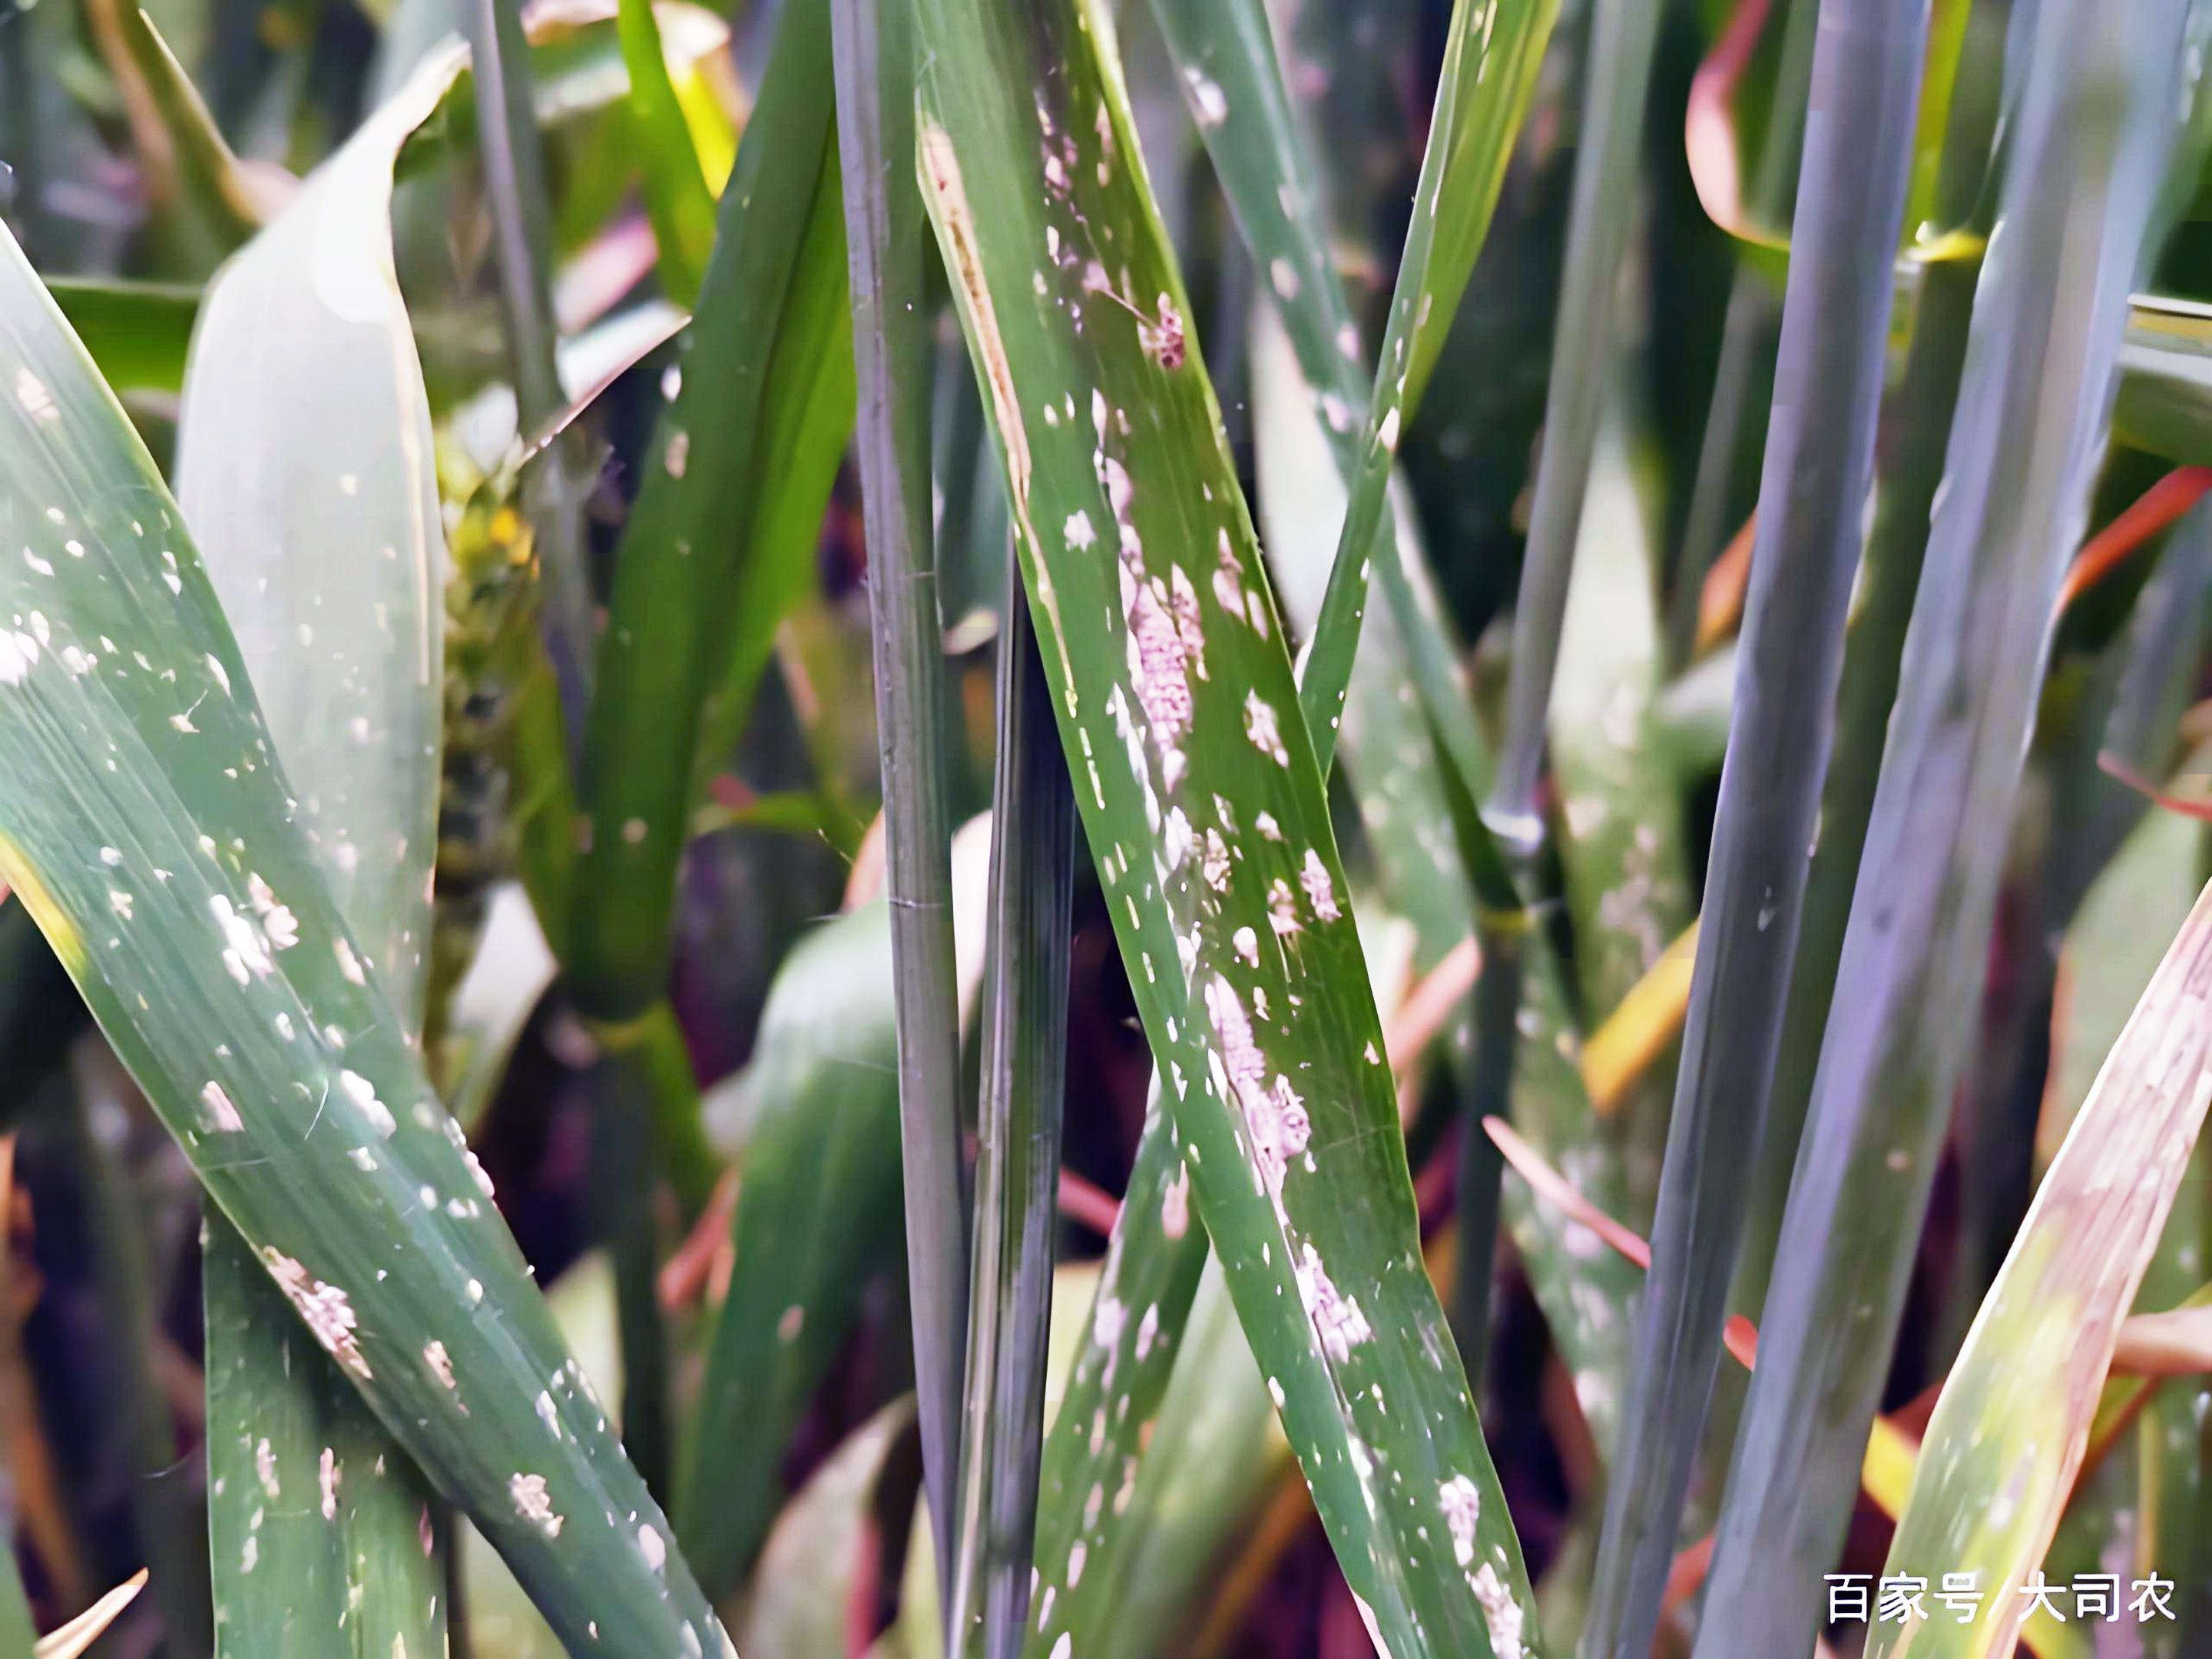Powdery Mildew: (1026, 408, 1568, 1621)
